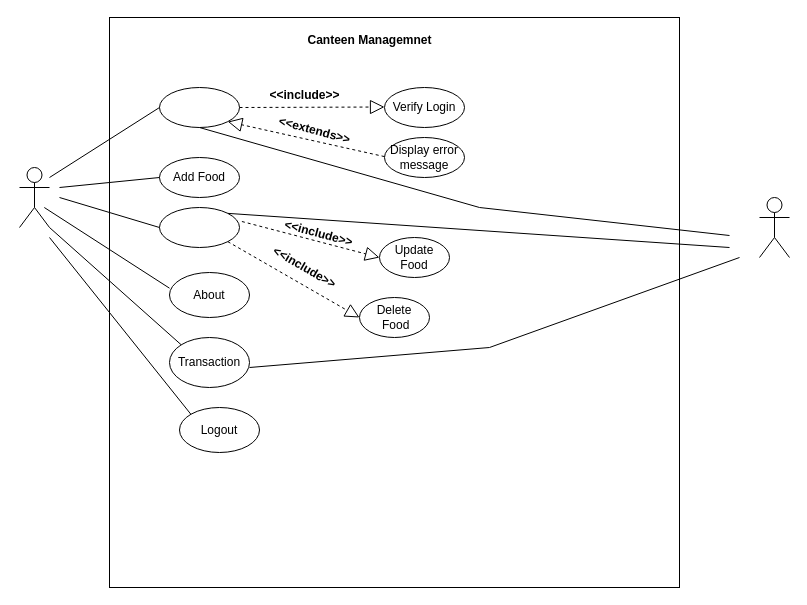
This 807x605 diagram has some shape labels left out. Here are the shapes that lost their labels. From the top down, the box of each, then its label:
(158, 86, 240, 128): Login
(18, 166, 50, 228): Admin
(158, 206, 240, 248): View food
(758, 196, 790, 258): Staff
